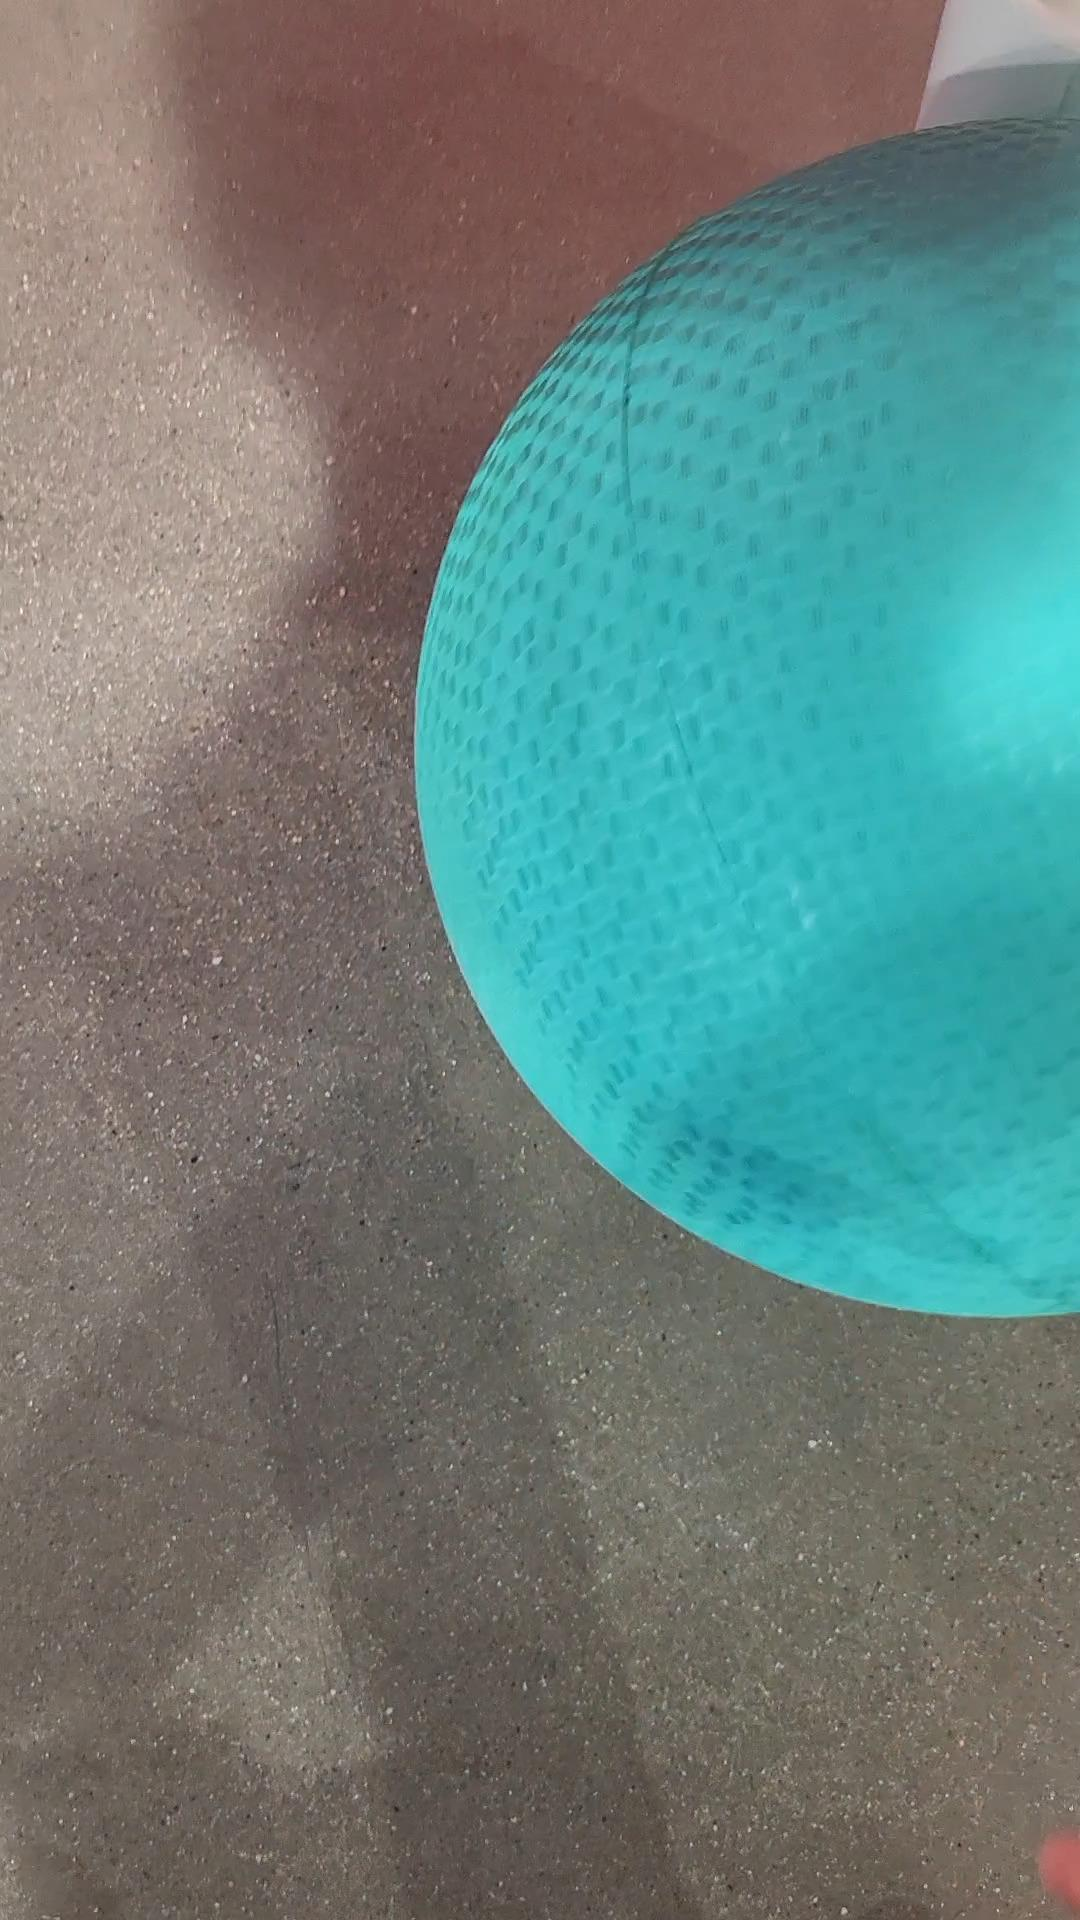algae: (405, 115, 1079, 1325)
